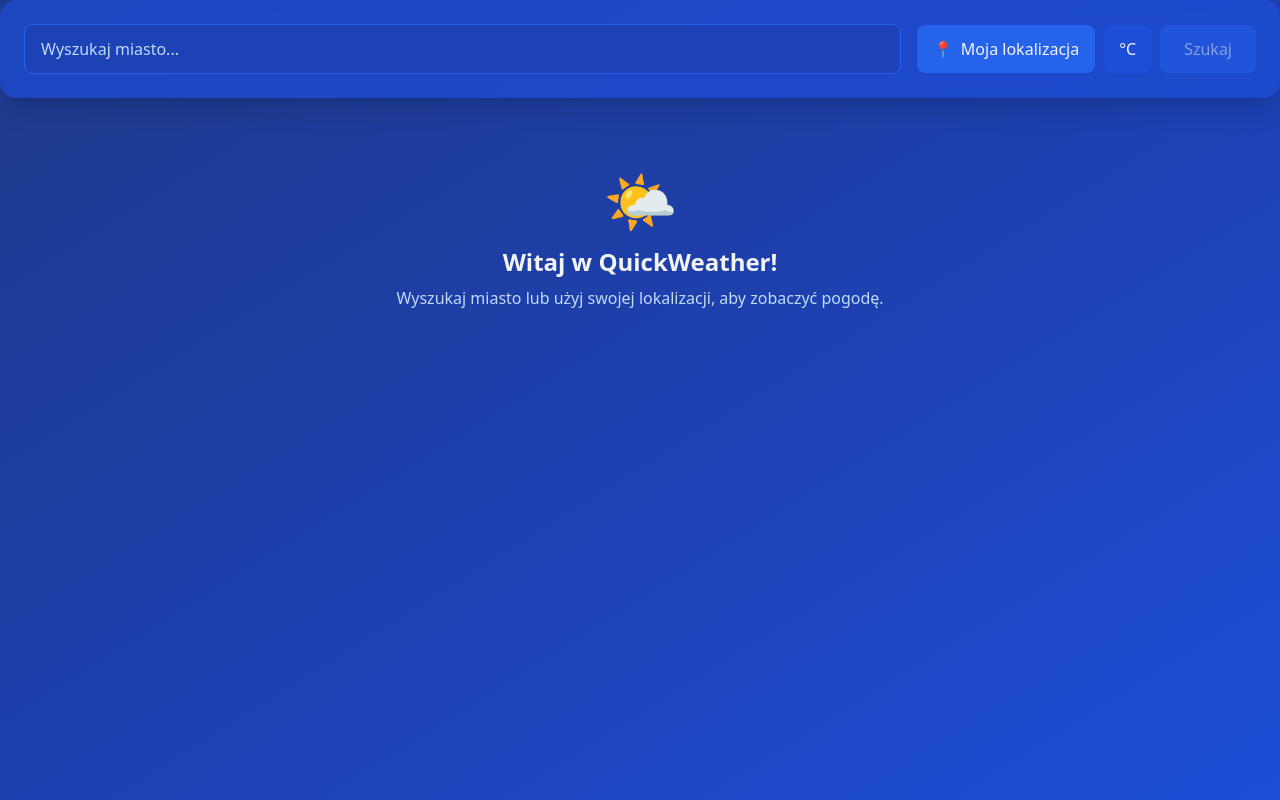
Test: Home Integration Tests › button is disabled when input is empty
The image size is (1280, 800).
Expected: the button "Szukaj" is disabled, [1160,25,1256,73]
Type "Kraków" into the field with placeholder "Wyszukaj miasto..." at [462, 49], box [24,24,901,74]
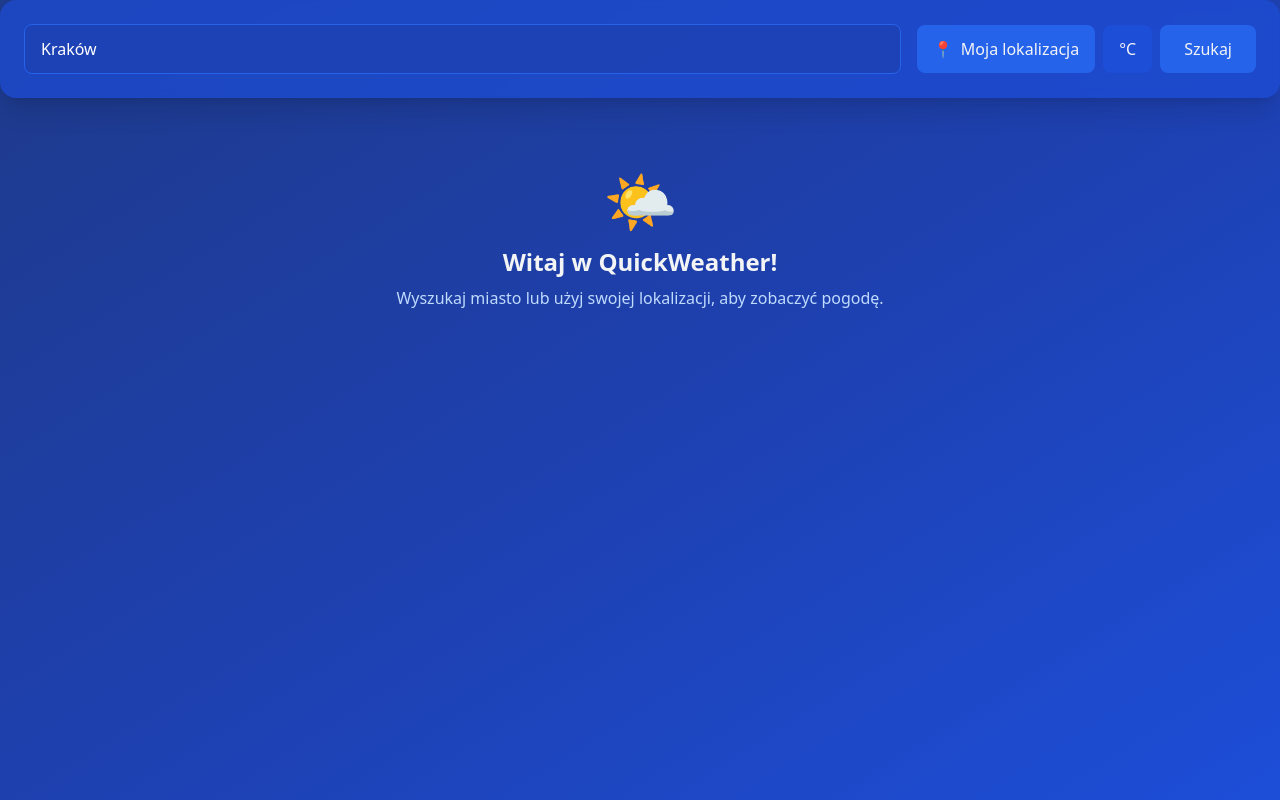
Expected: the button "Szukaj" is enabled, [1160,25,1256,73]
